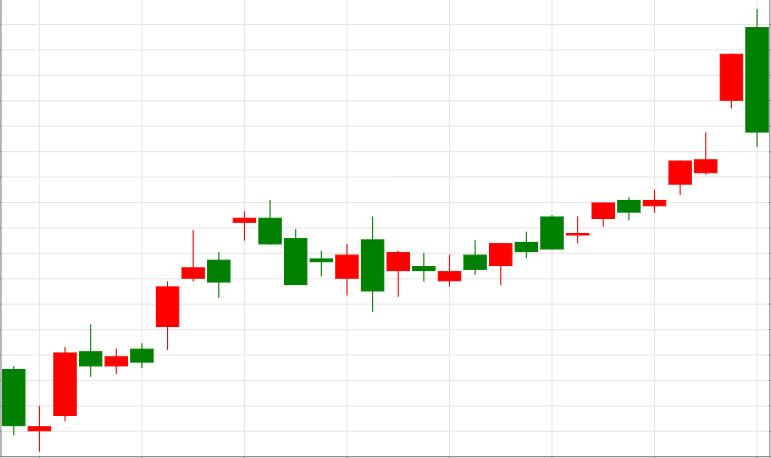bearish_engulfing_fall: (489, 8, 769, 285)
